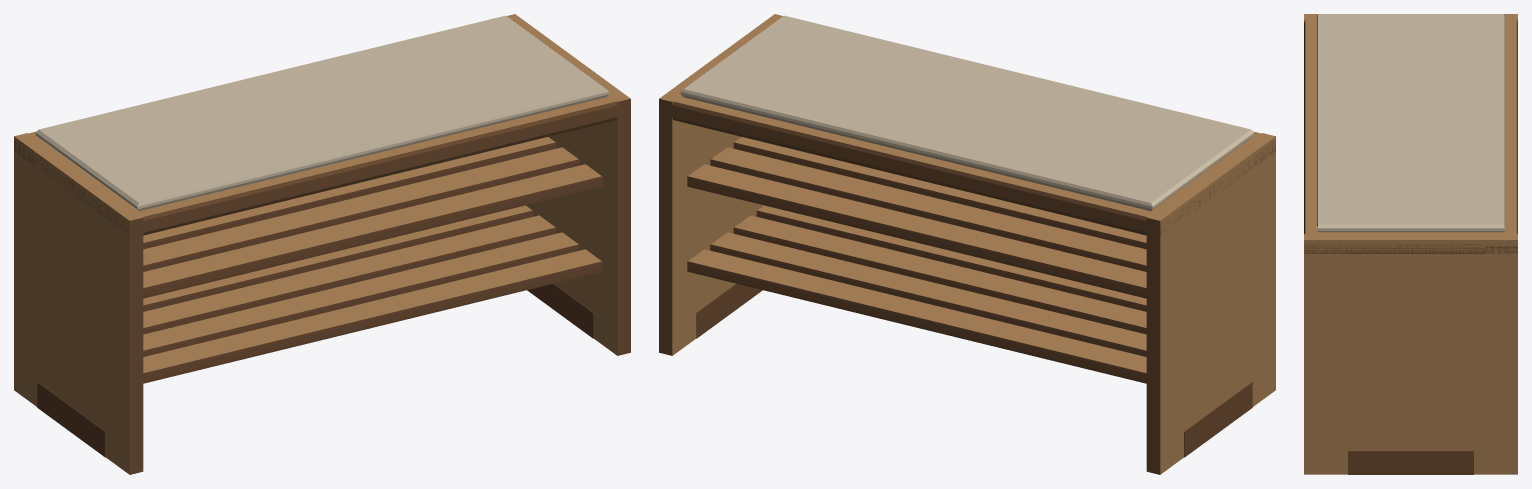
Rendered from FN_Bench_Shoe.glb.
3 views of the same model, side by side, from view 1: azimuth 30°, elevation 25°; view 2: azimuth 150°, elevation 25°; view 3: azimuth 270°, elevation 25° (orthographic). The views are drawn at different scales.
Parts seen in each view (by area): view 1: FN_Bench_Shoe; view 2: FN_Bench_Shoe; view 3: FN_Bench_Shoe.
Part boxes in pixels (x1,y1,x2,y2): FN_Bench_Shoe: (14,14,630,474); FN_Bench_Shoe: (659,14,1275,474); FN_Bench_Shoe: (1304,14,1517,474).
Bounding box in the file's own units: 0.902 × 0.45 × 0.36.
Materials: 1 (1 with a texture image).
